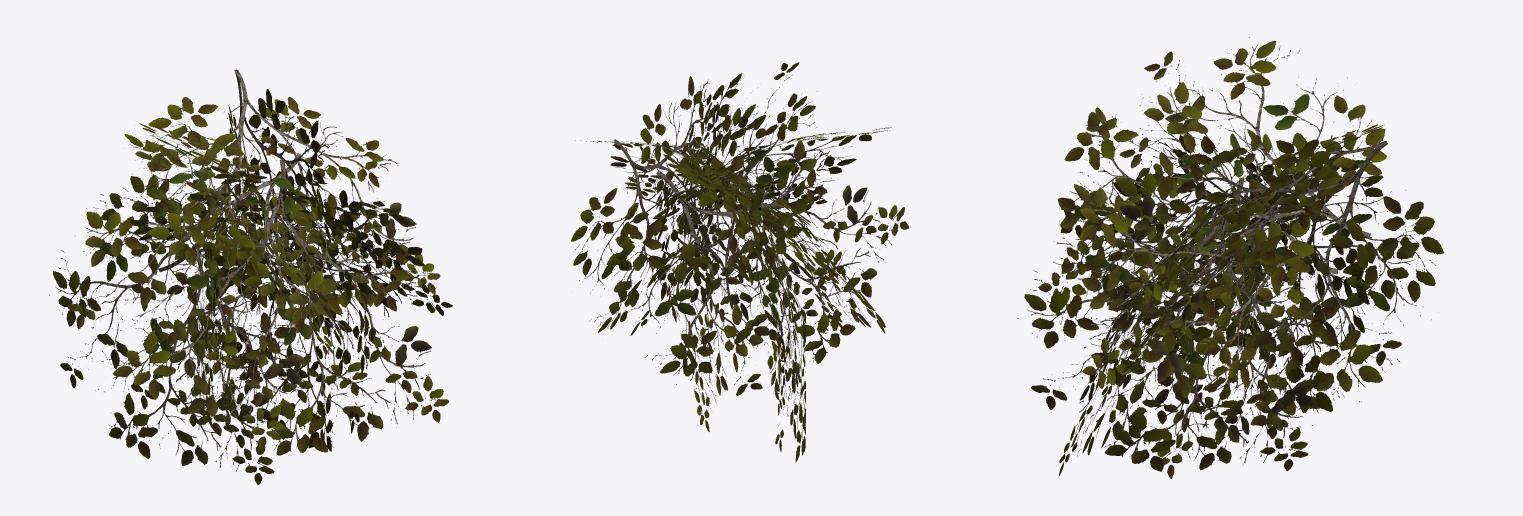
The model's file is rock_plants_002.obj.
3 renders of one model, left to right at view 1: azimuth 30°, elevation 25°; view 2: azimuth 150°, elevation 25°; view 3: azimuth 270°, elevation 25°, orthographic. The views are drawn at different scales.
Visible parts, largest first — view 1: rock_plants_002; view 2: rock_plants_002; view 3: rock_plants_002.
Part boxes in pixels (x1,y1,x2,y2): rock_plants_002: (49, 69, 452, 484); rock_plants_002: (571, 62, 908, 461); rock_plants_002: (1017, 37, 1443, 478).
Size of the model in its own units: 322 by 365 by 356.
1 material, 1 textured.
